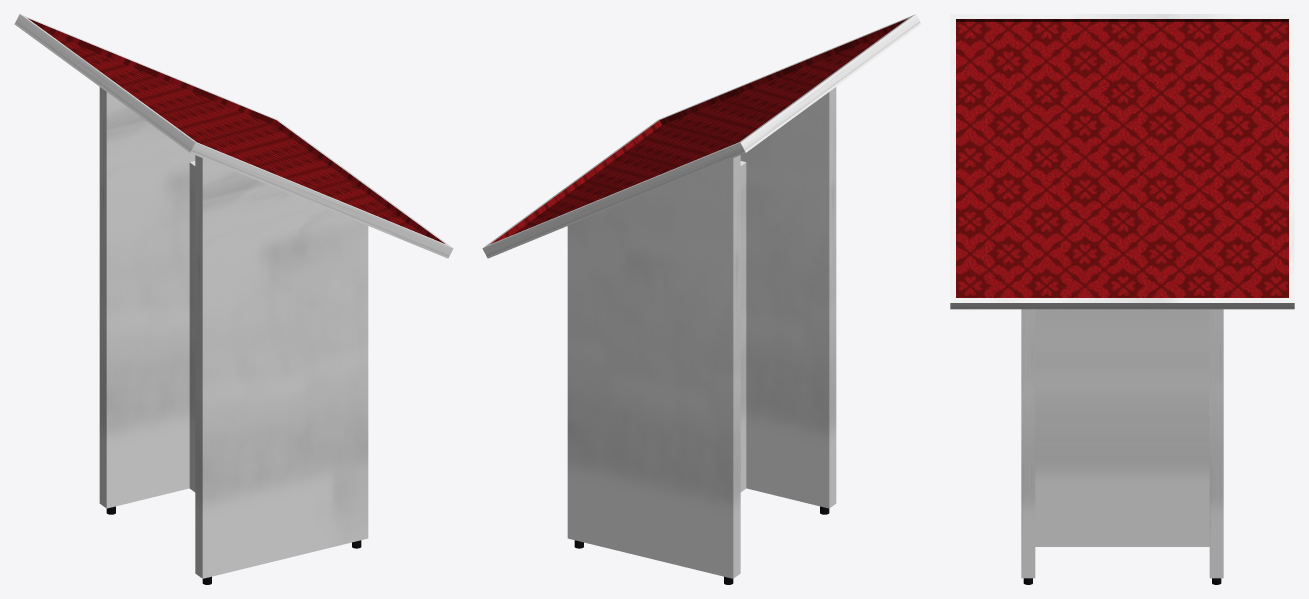
Rendered from Gia_de_something.obj.
3 renders of one model, left to right at view 1: azimuth 30°, elevation 25°; view 2: azimuth 150°, elevation 25°; view 3: azimuth 270°, elevation 25°, orthographic.
Parts seen in each view (by area): view 1: Chan_Cube, Mat_Cube.002; view 2: Chan_Cube, Mat_Cube.002; view 3: Mat_Cube.002, Chan_Cube.
Boxes of the visible parts, bbox=[...] form: Chan_Cube: bbox=[99, 87, 368, 578]; Mat_Cube.002: bbox=[14, 14, 453, 258]; Chan_Cube: bbox=[567, 87, 836, 578]; Mat_Cube.002: bbox=[482, 14, 921, 258]; Mat_Cube.002: bbox=[950, 14, 1294, 309]; Chan_Cube: bbox=[1021, 309, 1223, 578].
Bounding box in the file's own units: 0.634 × 1.11 × 0.7323.
